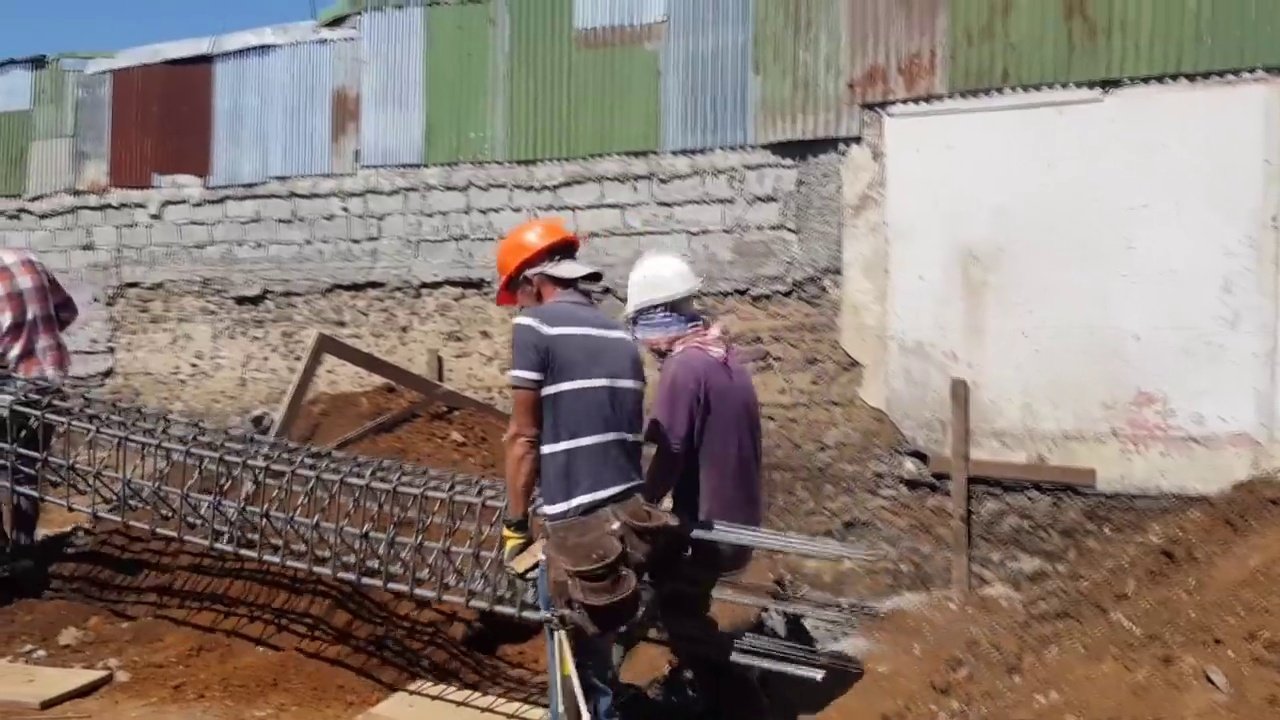helmet: (493, 219, 578, 312), (620, 250, 704, 322)
helmet-on: (490, 213, 602, 324), (621, 250, 704, 370)
person: (489, 217, 661, 717), (619, 252, 764, 692), (0, 227, 74, 572)
